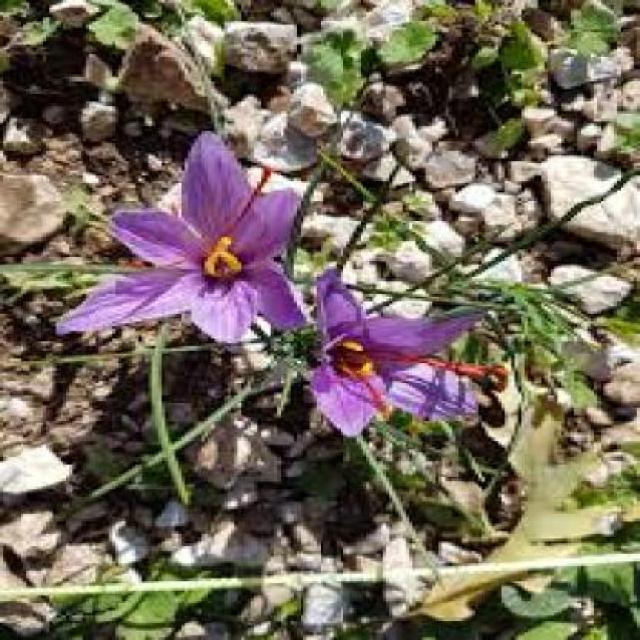saffron open: (57, 133, 303, 341), (311, 269, 480, 436)
